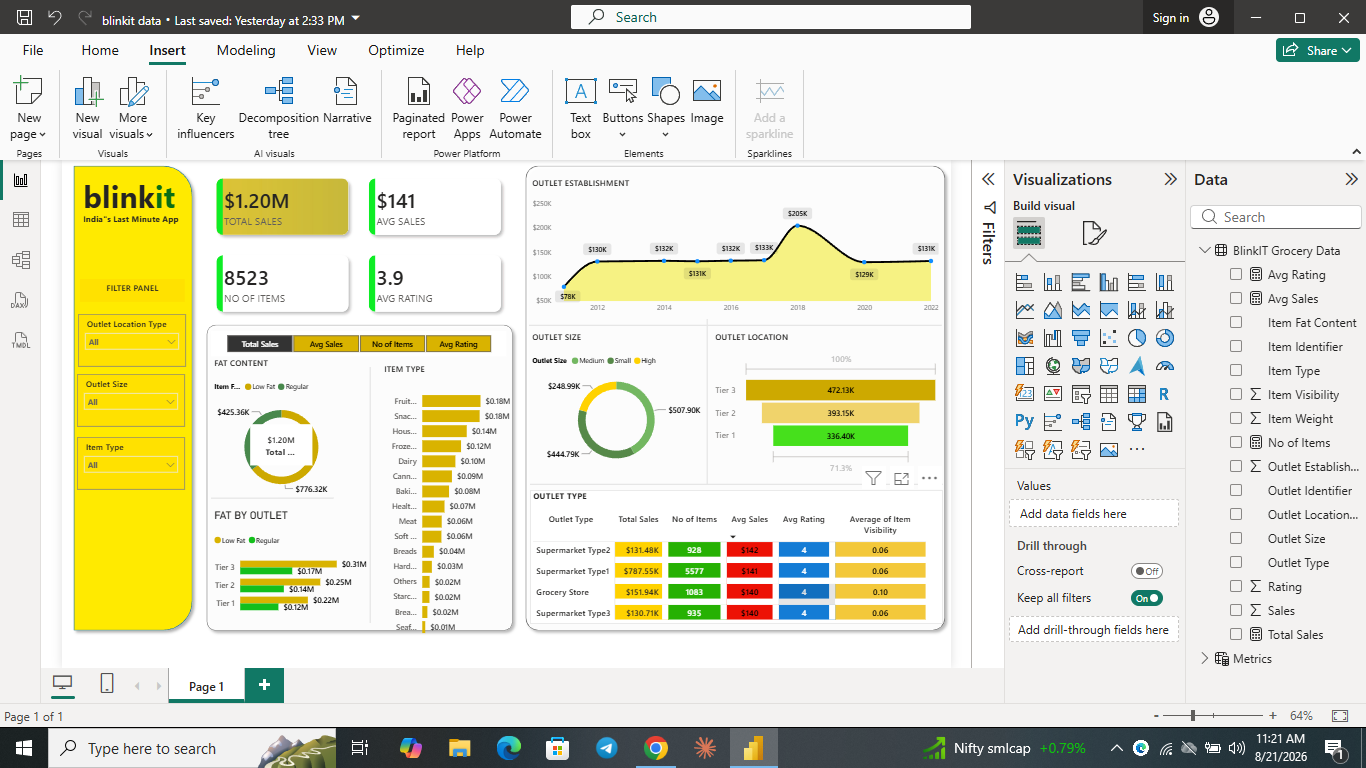

What the dashboard file says about the page in this screenshot:
{"tool":"powerbi","page":{"name":"Page 1","canvas":[1400,800],"ordinal":0},"visuals":[{"type":"shape","box":[10,0,205,750],"z":0},{"type":"textbox","box":[27.6,79,165.4,33.1],"z":1000},{"type":"textbox","box":[27.6,18.4,165.4,79],"z":2000},{"type":"cardVisual","fields":{"Data":["BlinkIT Grocery Data.Total Sales","BlinkIT Grocery Data.Avg Sales","BlinkIT Grocery Data.No of Items","BlinkIT Grocery Data.Avg Rating"]},"box":[214.2,0,507.1,269.3],"z":3000},{"type":"shape","box":[218.3,250,500,500],"z":4000},{"type":"donutChart","title":"FAT CONTENT","fields":{"Y":["BlinkIT Grocery Data.Total Sales"],"Category":["BlinkIT Grocery Data.Item Fat Content"]},"box":[235,310,221.7,228.3],"z":5000},{"type":"slicer","fields":{"Values":["Metrics.Metrics"]},"box":[235,270,465,40],"z":6000},{"type":"cardVisual","fields":{"Data":["BlinkIT Grocery Data.Total Sales"]},"box":[291.7,411.7,108.3,75],"z":7000},{"type":"clusteredBarChart","title":"FAT BY OUTLET","fields":{"Y":["BlinkIT Grocery Data.Total Sales"],"Category":["BlinkIT Grocery Data.Outlet Location Type"],"Series":["BlinkIT Grocery Data.Item Fat Content"]},"box":[235,550,250,176.7],"z":8000},{"type":"shape","box":[235,528.3,193.3,10],"z":9000},{"type":"shape","box":[478.3,326.7,13.3,403.3],"z":10000},{"type":"barChart","title":"ITEM TYPE","fields":{"Y":["BlinkIT Grocery Data.Total Sales"],"Category":["BlinkIT Grocery Data.Item Type"]},"box":[501.7,320,208.3,440],"z":11000},{"type":"shape","box":[721.7,0,678.3,750],"z":12000},{"type":"lineChart","title":"OUTLET ESTABLISHMENT","fields":{"Category":["BlinkIT Grocery Data.Outlet Establishment Year"],"Y":["BlinkIT Grocery Data.Total Sales"]},"box":[735,26.7,650,223.3],"z":13000},{"type":"shape","box":[735,250,650,20],"z":14000},{"type":"donutChart","title":"OUTLET SIZE","fields":{"Y":["BlinkIT Grocery Data.Total Sales"],"Category":["BlinkIT Grocery Data.Outlet Size"]},"box":[735,270,275,225],"z":15000},{"type":"shape","box":[1010,250,13.3,260],"z":16000},{"type":"funnel","title":"OUTLET LOCATION","fields":{"Y":["Sum(BlinkIT Grocery Data.Sales)"],"Category":["BlinkIT Grocery Data.Outlet Location Type"]},"box":[1023.3,270,361.7,230],"z":17000},{"type":"shape","box":[736.7,500,650,20],"z":18000},{"type":"pivotTable","title":"OUTLET TYPE","fields":{"Rows":["BlinkIT Grocery Data.Outlet Type"],"Values":["BlinkIT Grocery Data.Total Sales","BlinkIT Grocery Data.No of Items","BlinkIT Grocery Data.Avg Sales","BlinkIT Grocery Data.Avg Rating","Avg(BlinkIT Grocery Data.Item Visibility)"]},"box":[736.7,520,650,210],"z":19000},{"type":"slicer","fields":{"Values":["BlinkIT Grocery Data.Outlet Location Type"]},"box":[25.2,242.5,170.1,83.5],"z":19001},{"type":"slicer","fields":{"Values":["BlinkIT Grocery Data.Outlet Size"]},"box":[23.6,337,170.1,83.5],"z":19002},{"type":"slicer","fields":{"Values":["BlinkIT Grocery Data.Item Type"]},"box":[23.6,436.2,170.1,83.5],"z":19003},{"type":"textbox","box":[28.3,187.4,165.4,36.2],"z":19004}]}

Visuals, with their boxes on the page's 1400x800 design canvas (x1, y1, x2, y2). These are canvas units, not pixel positions in the 1366x768 screenshot, which may show the page scaled, cropped or inside an application window:
shape: bbox=(10, 0, 215, 750)
textbox: bbox=(28, 79, 193, 112)
textbox: bbox=(28, 18, 193, 97)
cardVisual - BlinkIT Grocery Data.Total Sales x BlinkIT Grocery Data.Avg Sales: bbox=(214, 0, 721, 269)
shape: bbox=(218, 250, 718, 750)
"FAT CONTENT" donutChart: bbox=(235, 310, 457, 538)
slicer - Metrics.Metrics: bbox=(235, 270, 700, 310)
cardVisual - BlinkIT Grocery Data.Total Sales: bbox=(292, 412, 400, 487)
"FAT BY OUTLET" clusteredBarChart: bbox=(235, 550, 485, 727)
shape: bbox=(235, 528, 428, 538)
shape: bbox=(478, 327, 492, 730)
"ITEM TYPE" barChart: bbox=(502, 320, 710, 760)
shape: bbox=(722, 0, 1400, 750)
"OUTLET ESTABLISHMENT" lineChart: bbox=(735, 27, 1385, 250)
shape: bbox=(735, 250, 1385, 270)
"OUTLET SIZE" donutChart: bbox=(735, 270, 1010, 495)
shape: bbox=(1010, 250, 1023, 510)
"OUTLET LOCATION" funnel: bbox=(1023, 270, 1385, 500)
shape: bbox=(737, 500, 1387, 520)
"OUTLET TYPE" pivotTable: bbox=(737, 520, 1387, 730)
slicer - BlinkIT Grocery Data.Outlet Location Type: bbox=(25, 242, 195, 326)
slicer - BlinkIT Grocery Data.Outlet Size: bbox=(24, 337, 194, 420)
slicer - BlinkIT Grocery Data.Item Type: bbox=(24, 436, 194, 520)
textbox: bbox=(28, 187, 194, 224)
